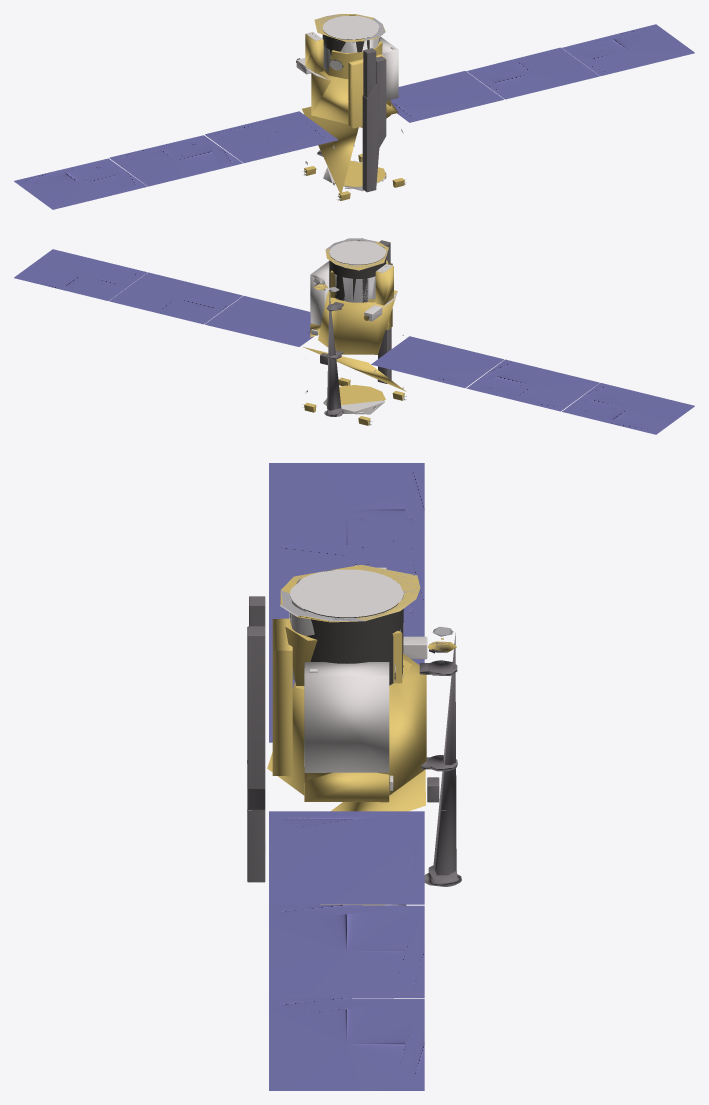
File: hinode-solar-b.glb
The picture shows the model from 3 angles, top to bottom: view 1: azimuth 30°, elevation 25°; view 2: azimuth 150°, elevation 25°; view 3: azimuth 270°, elevation 25°; orthographic projection. The views are drawn at different scales.
Visible parts, largest first — view 1: Fake; view 2: Fake; view 3: Fake.
Boxes of the visible parts, x1,y1,x2,y2 form: Fake: [14, 14, 694, 209]; Fake: [14, 238, 694, 434]; Fake: [247, 463, 461, 1090].
Bounding box in the file's own units: 230 × 52.39 × 33.3.
1 material, 1 textured.
